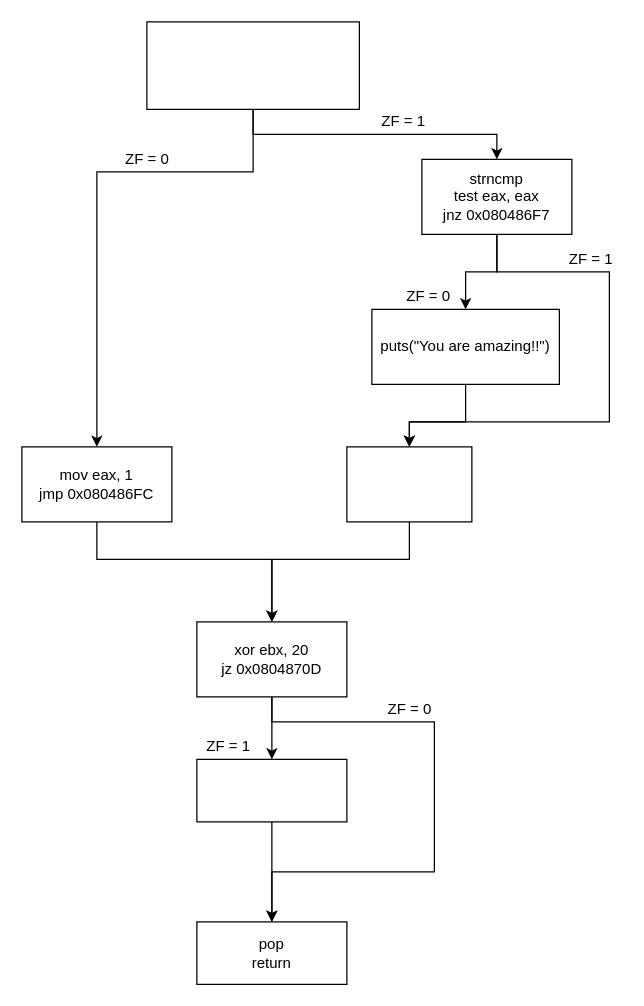
Image size: 644x1006. Some labels were removed from this diagram. Here are the shapes that lost their labels. From the top down, the centre of each, then its label:
(252,65): main cmp dword ptr [ebx], 1 jg 0x080486C9
(409,484): mov eax, 0
(271,790): __stack_chk_fail
